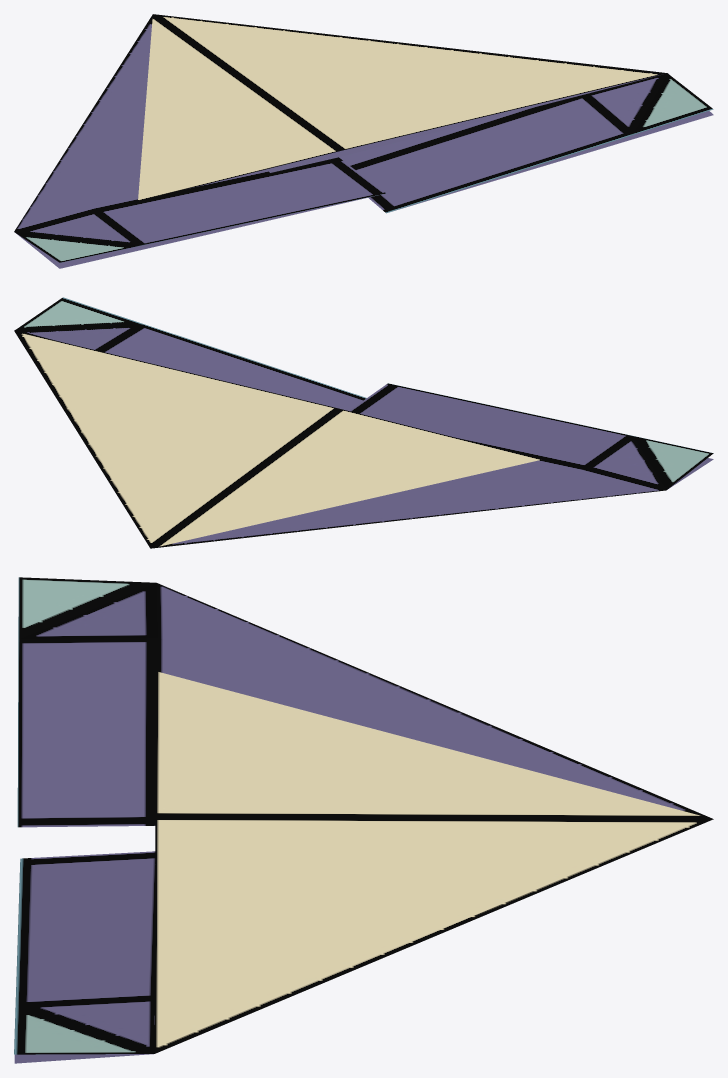
Rendered from 4_spin.fbx.
3 renders of one model, top to bottom at view 1: azimuth 30°, elevation 25°; view 2: azimuth 150°, elevation 25°; view 3: azimuth 270°, elevation 25°, orthographic. The views are drawn at different scales.
Parts seen in each view (by area): view 1: 4_spin; view 2: 4_spin; view 3: 4_spin.
Boxes of the visible parts, x1,y1,x2,y2 form: 4_spin: [14, 14, 713, 268]; 4_spin: [14, 297, 713, 548]; 4_spin: [14, 577, 713, 1063].
Bounding box in the file's own units: 401 × 17.94 × 251.
